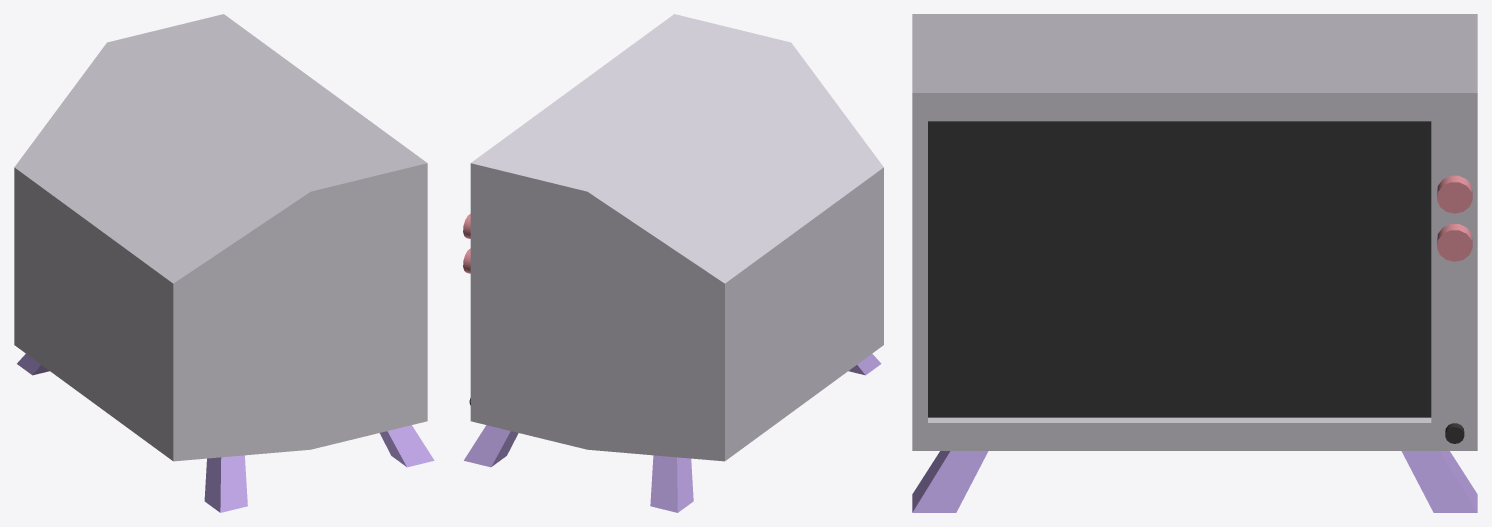
File: Television.fbx
3 renders of one model, left to right at view 1: azimuth 30°, elevation 25°; view 2: azimuth 150°, elevation 25°; view 3: azimuth 270°, elevation 25°, orthographic. The views are drawn at different scales.
Visible parts, largest first — view 1: polySurface7, pCube12; view 2: polySurface7, pCube12; view 3: polySurface6, polySurface7, pCube12, pCylinder1, pCylinder2.
Boxes of the visible parts, <box> form: polySurface7: <box>14,14,427,461</box>; pCube12: <box>17,354,434,512</box>; polySurface7: <box>470,14,883,461</box>; pCube12: <box>464,353,881,512</box>; polySurface6: <box>928,121,1431,417</box>; polySurface7: <box>912,14,1477,450</box>; pCube12: <box>912,451,1477,512</box>; pCylinder1: <box>1437,175,1472,213</box>; pCylinder2: <box>1437,224,1472,261</box>.
Size of the model in its own units: 4.98 by 5.9 by 7.28.
